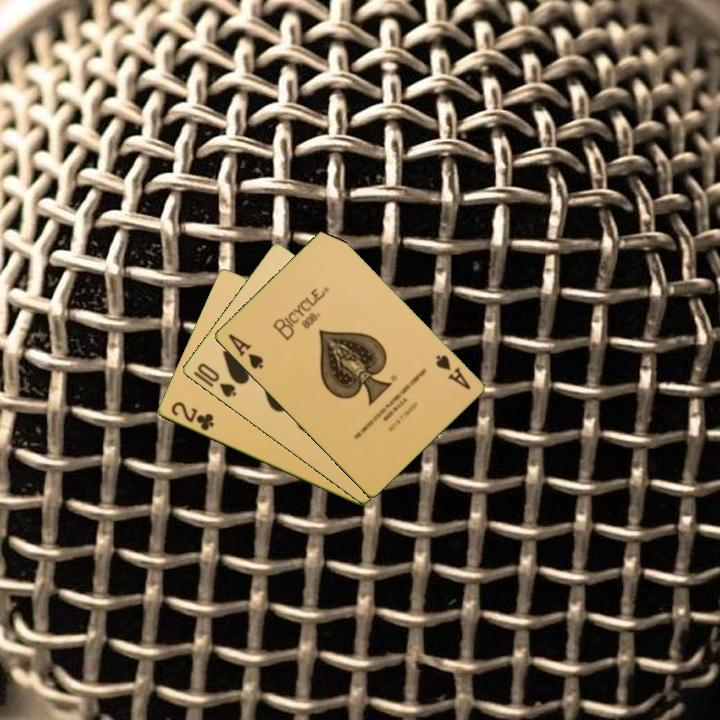10s: (193, 359, 239, 400)
2c: (167, 398, 217, 434)
As: (224, 330, 266, 372), (432, 351, 473, 392)
